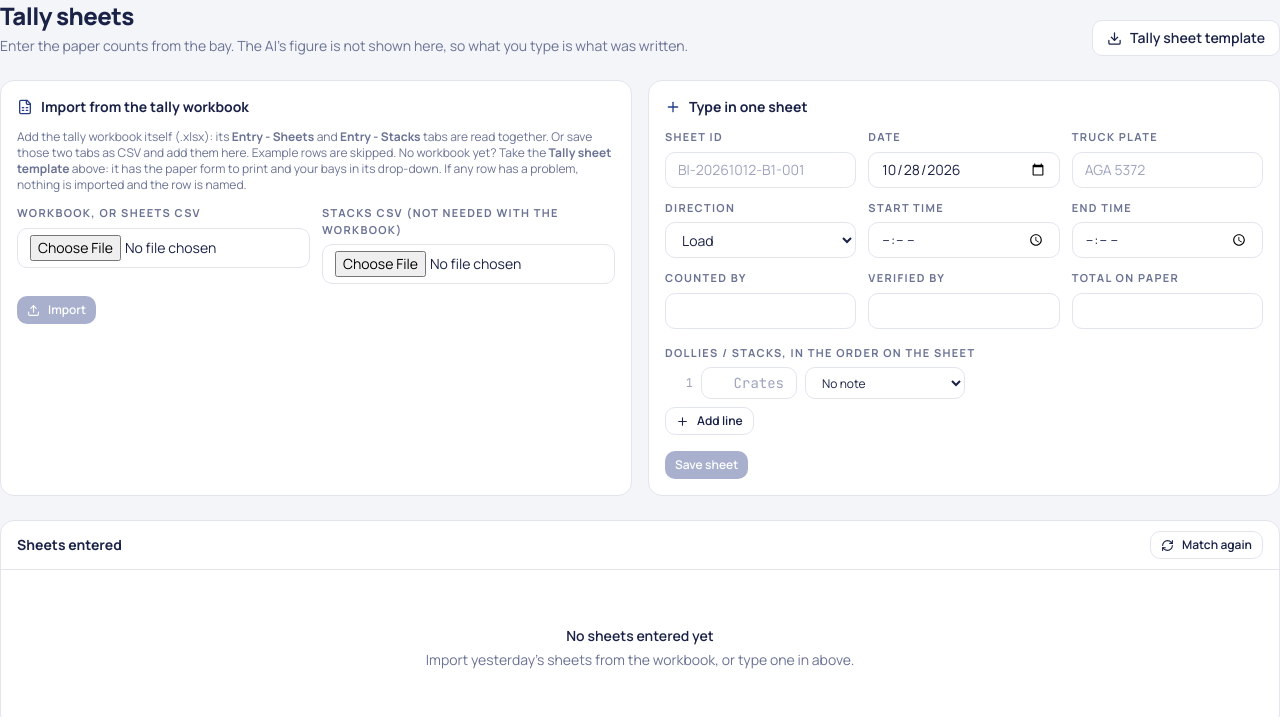
Scenario: tally sheets › types in a sheet line by line and flags lines that disagree with the paper total
This screenshot has width=1280, height=717.
In the field labelled "Sheet ID": (761, 170) left=665, top=152, right=856, bottom=188, type "BI-9"
In the field labelled "Truck plate": (1167, 170) left=1072, top=152, right=1263, bottom=188, type "aga 5372"
In the field labelled "Total on paper": (1167, 310) left=1072, top=292, right=1263, bottom=328, type "64"
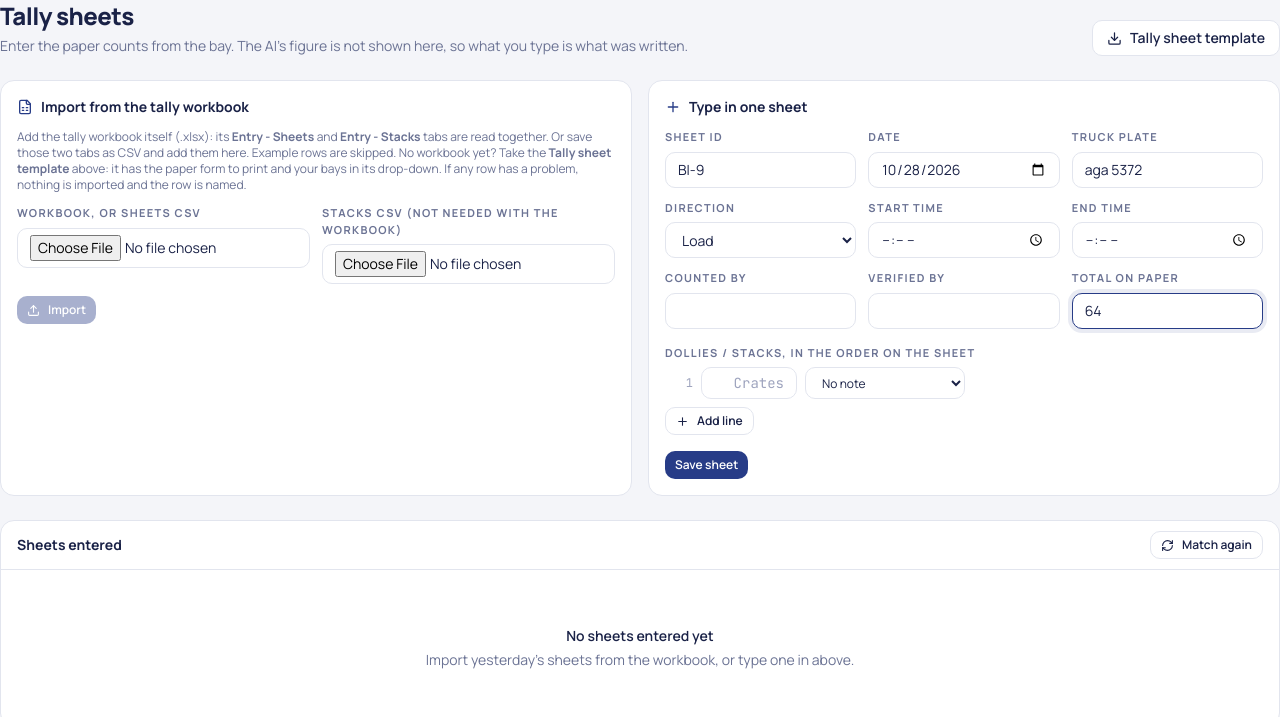
In the field named "Line 1 crates": (749, 383) left=701, top=367, right=797, bottom=399, type "32"
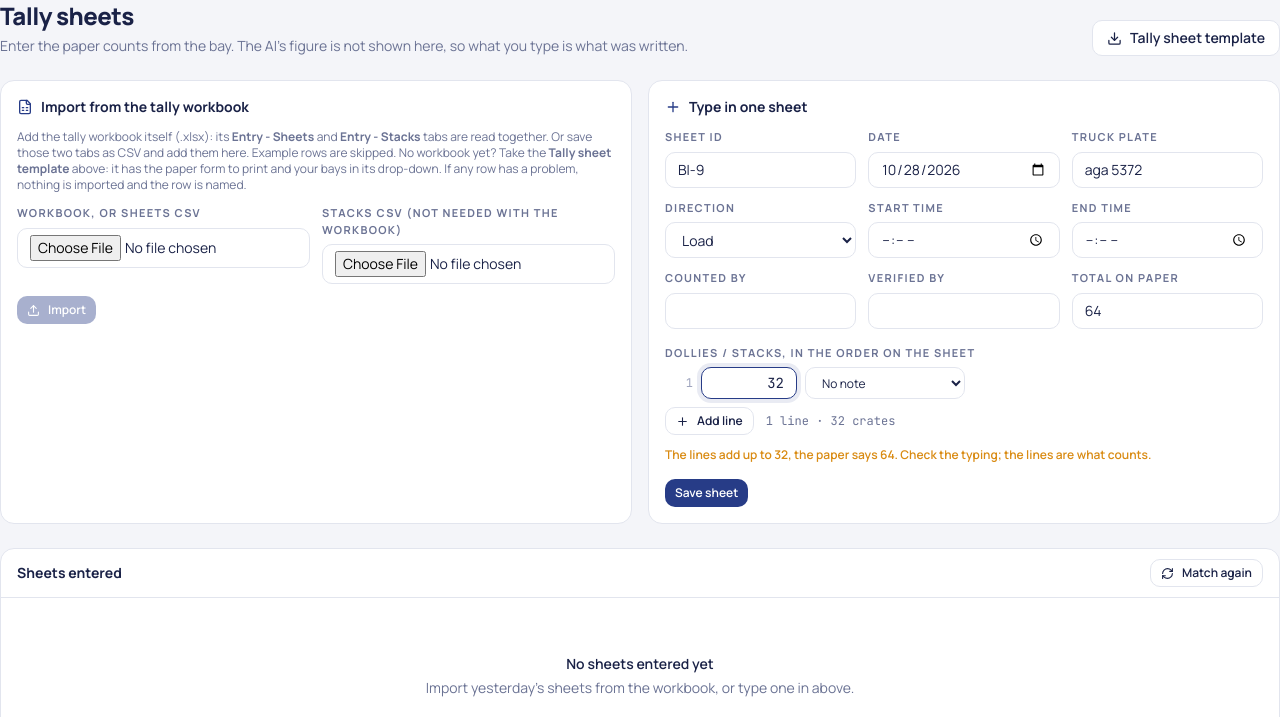
Click the button "Add line": (709, 421) left=665, top=407, right=754, bottom=435
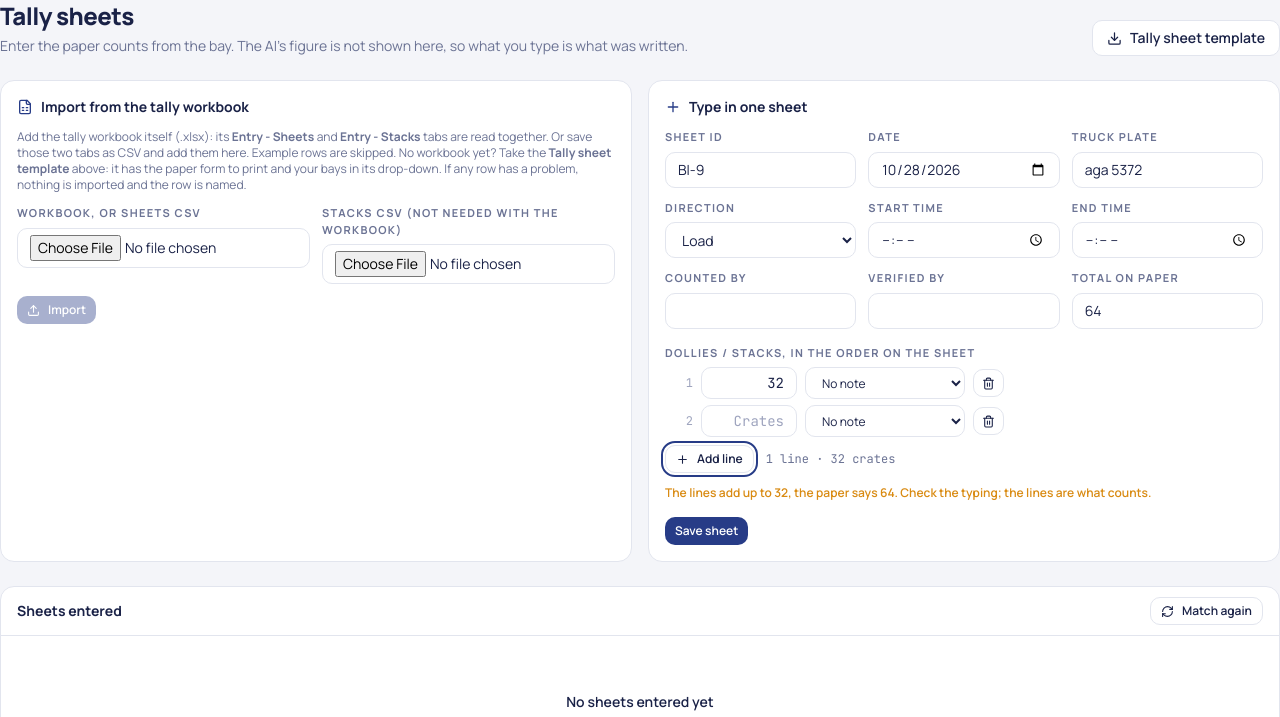
In the field named "Line 2 crates": (749, 421) left=701, top=405, right=797, bottom=437, type "30"
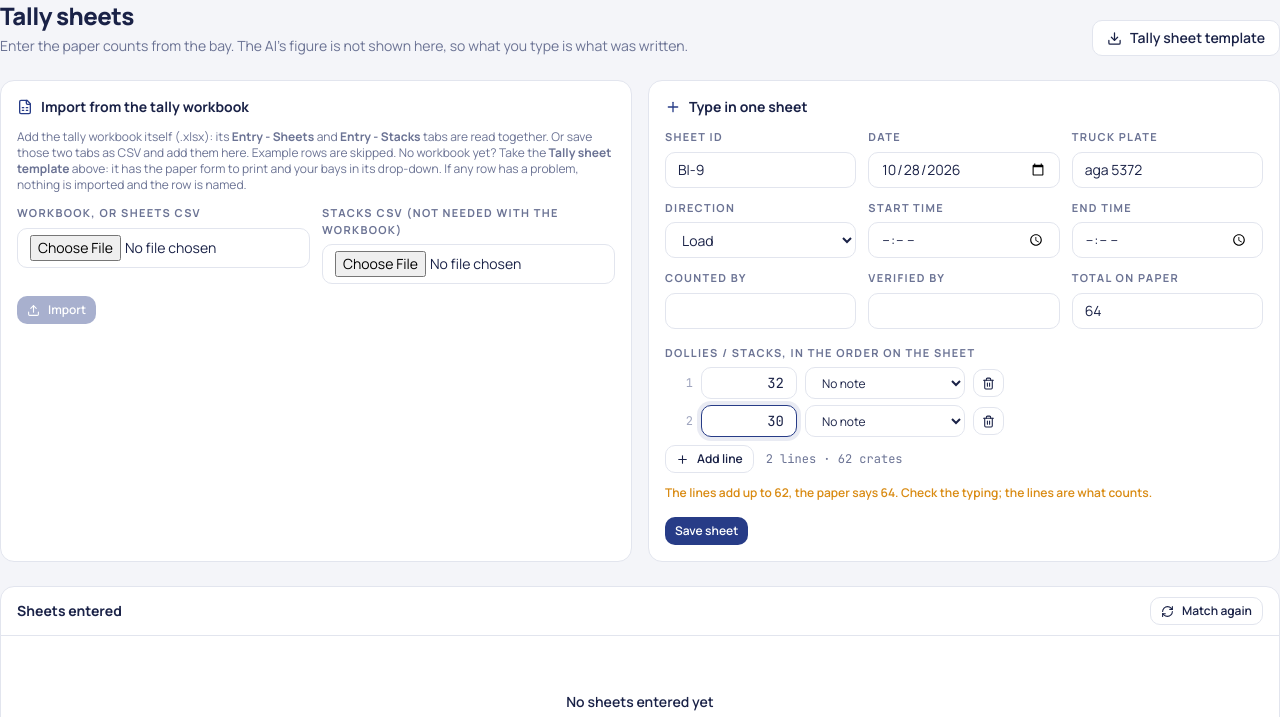
Select "P · partial / broken" in the dropdown named "Line 2 note": (885, 421) left=805, top=405, right=965, bottom=437
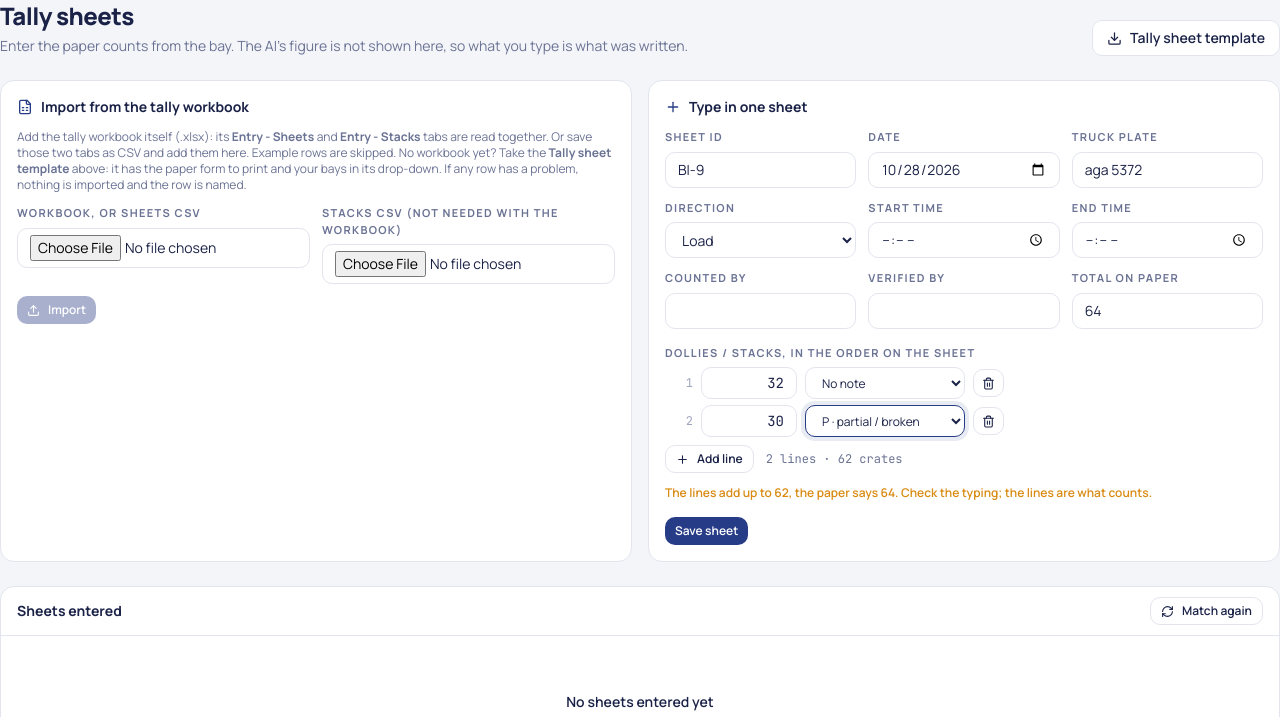
Result: the message shows "The lines add up to 62, the paper says 64" at left=665, top=485, right=1152, bottom=501
Click the button "Save sheet": (707, 531) left=665, top=517, right=748, bottom=545
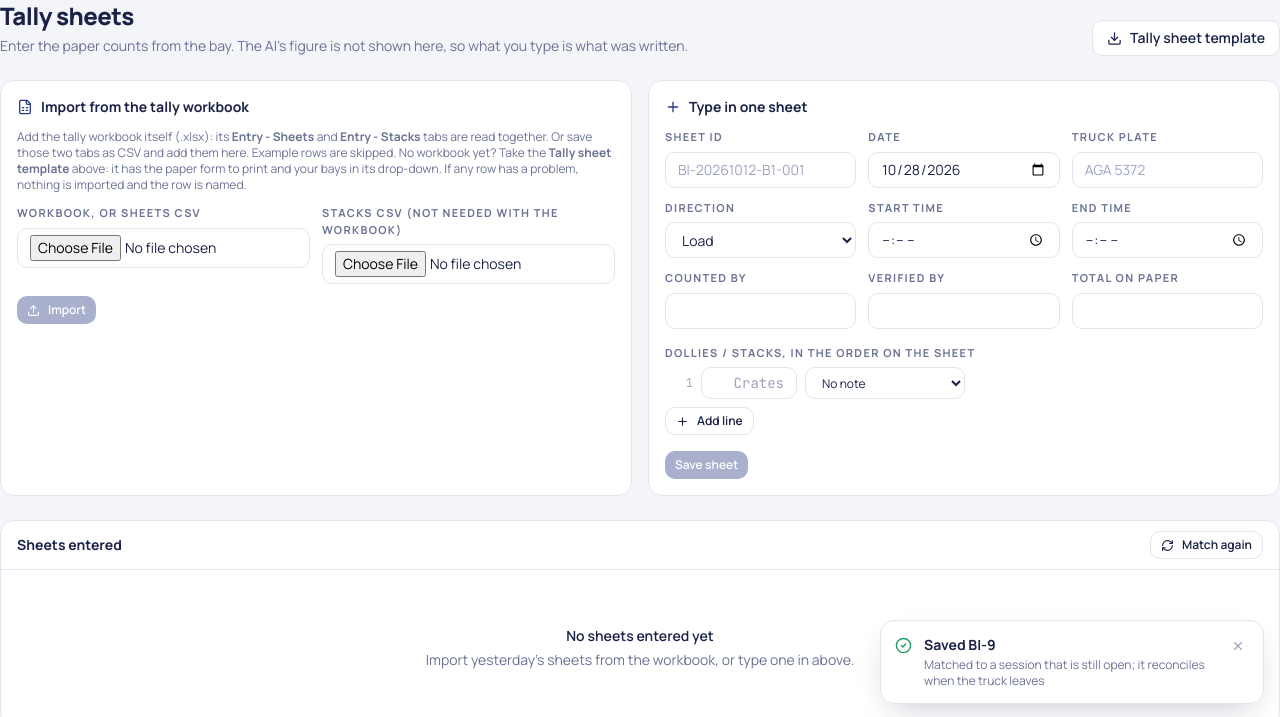
Result: the text "Saved BI-9" is shown at left=924, top=635, right=996, bottom=654
